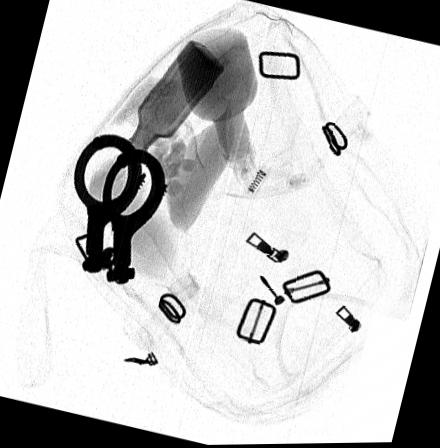HandCuffs: (72, 134, 167, 285)
